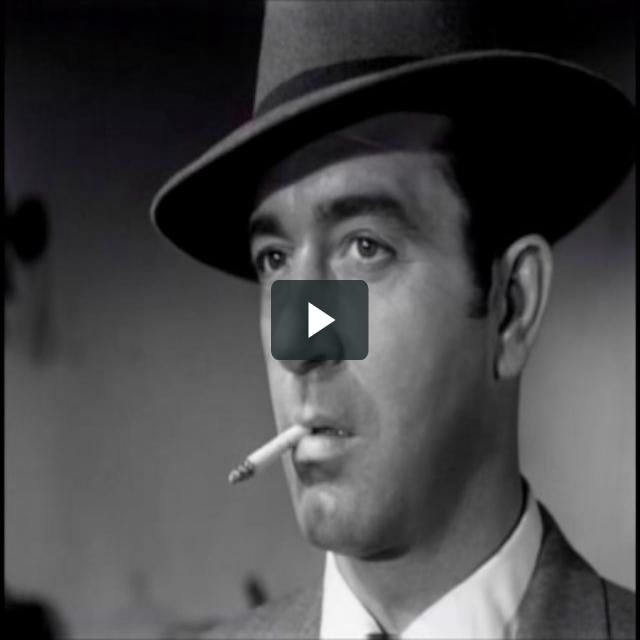cigarette: (226, 417, 308, 491)
